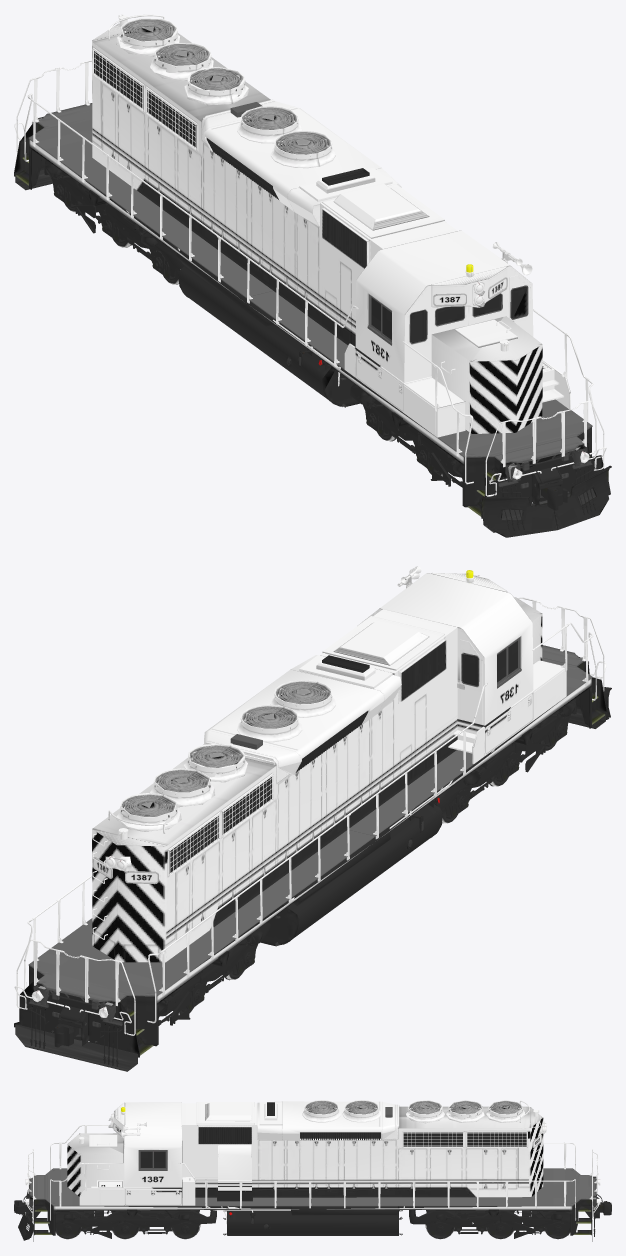
Rendered from loco.976cf99873.glb.
3 views of the same model, one above another, from view 1: azimuth 30°, elevation 25°; view 2: azimuth 150°, elevation 25°; view 3: azimuth 270°, elevation 25° (orthographic). The views are drawn at different scales.
Visible parts, largest first — view 1: Body_2, Base_14, Cab_3, Vent_Module_11, Fuel_Tank_1, Exhaust_Fans_4, Non_Mirrored_38, CowCatcher_10, Exhaust_Fans.001_13, Railing_And_Pipes_7, Bogee_NonMirrored_R_51, Bogee_NonMirrored_F_40 (+6 smaller); view 2: Body_2, Base_14, Cab_3, Vent_Module_11, Fuel_Tank_1, Exhaust_Fans_4, Non_Mirrored_38, Exhaust_Fans.001_13, Railing_And_Pipes_7, Bogee_NonMirrored_F_40, Bogee_NonMirrored_R_51, Vent_Grid_37 (+5 smaller); view 3: Body_2, Base_14, Cab_3, Fuel_Tank_1, Vent_Module_11, Non_Mirrored_38, Exhaust_Fans_4, Bogee_NonMirrored_F_40, Bogee_NonMirrored_R_51, Railing_And_Pipes_7, Exhaust_Fans.001_13, Vent_Grid_37 (+13 smaller).
Boxes of the visible parts, x1=… form: Body_2: x1=92, y1=23, x2=542, y2=433; Base_14: x1=14, y1=103, x2=603, y2=532; Cab_3: x1=355, y1=230, x2=533, y2=412; Vent_Module_11: x1=202, y1=99, x2=401, y2=226; Fuel_Tank_1: x1=176, y1=250, x2=333, y2=399; Exhaust_Fans_4: x1=116, y1=18, x2=248, y2=105; Non_Mirrored_38: x1=344, y1=275, x2=570, y2=437; CowCatcher_10: x1=481, y1=465, x2=611, y2=537; Exhaust_Fans.001_13: x1=237, y1=106, x2=335, y2=168; Railing_And_Pipes_7: x1=24, y1=14, x2=596, y2=524; Bogee_NonMirrored_R_51: x1=44, y1=160, x2=184, y2=268; Bogee_NonMirrored_F_40: x1=350, y1=381, x2=498, y2=488; Body_2: x1=92, y1=597, x2=542, y2=962; Base_14: x1=14, y1=645, x2=607, y2=1071; Cab_3: x1=357, y1=573, x2=534, y2=755; Vent_Module_11: x1=203, y1=655, x2=401, y2=783; Fuel_Tank_1: x1=277, y1=797, x2=442, y2=945; Exhaust_Fans_4: x1=116, y1=744, x2=247, y2=831; Non_Mirrored_38: x1=448, y1=639, x2=566, y2=763; Exhaust_Fans.001_13: x1=237, y1=680, x2=335, y2=742; Railing_And_Pipes_7: x1=24, y1=622, x2=596, y2=1060; Bogee_NonMirrored_F_40: x1=430, y1=699, x2=576, y2=809; Bogee_NonMirrored_R_51: x1=128, y1=920, x2=270, y2=1025; Vent_Grid_37: x1=169, y1=774, x2=273, y2=876; Body_2: x1=67, y1=1102, x2=544, y2=1197; Base_14: x1=26, y1=1168, x2=599, y2=1241; Cab_3: x1=108, y1=1102, x2=182, y2=1205; Fuel_Tank_1: x1=227, y1=1206, x2=399, y2=1235; Vent_Module_11: x1=257, y1=1101, x2=397, y2=1140; Non_Mirrored_38: x1=79, y1=1137, x2=252, y2=1205; Exhaust_Fans_4: x1=406, y1=1100, x2=524, y2=1123; Bogee_NonMirrored_F_40: x1=55, y1=1210, x2=216, y2=1238; Bogee_NonMirrored_R_51: x1=409, y1=1210, x2=570, y2=1238; Railing_And_Pipes_7: x1=24, y1=1100, x2=594, y2=1232; Exhaust_Fans.001_13: x1=302, y1=1100, x2=380, y2=1122; Vent_Grid_37: x1=403, y1=1132, x2=526, y2=1147.
Size of the model in its own units: 3.13 by 4.64 by 20.44.
Materials: 1 (1 with a texture image).
